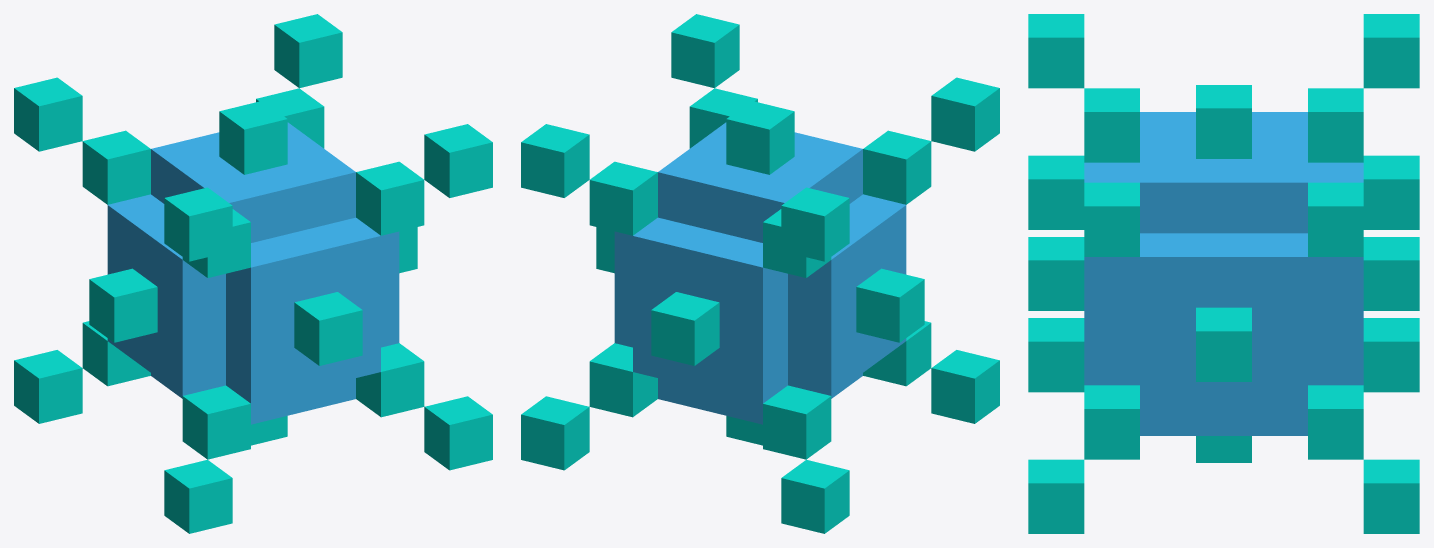
Rendered from illusionpart.dae.
3 views of the same model, side by side, from view 1: azimuth 30°, elevation 25°; view 2: azimuth 150°, elevation 25°; view 3: azimuth 270°, elevation 25° (orthographic). The views are drawn at different scales.
Parts seen in each view (by area): view 1: illusionpart; view 2: illusionpart; view 3: illusionpart.
Part boxes in pixels (x1=…): illusionpart: x1=14, y1=14, x2=492, y2=533; illusionpart: x1=521, y1=14, x2=999, y2=533; illusionpart: x1=1028, y1=14, x2=1419, y2=533.
Size of the model in its own units: 7 by 7 by 7.
